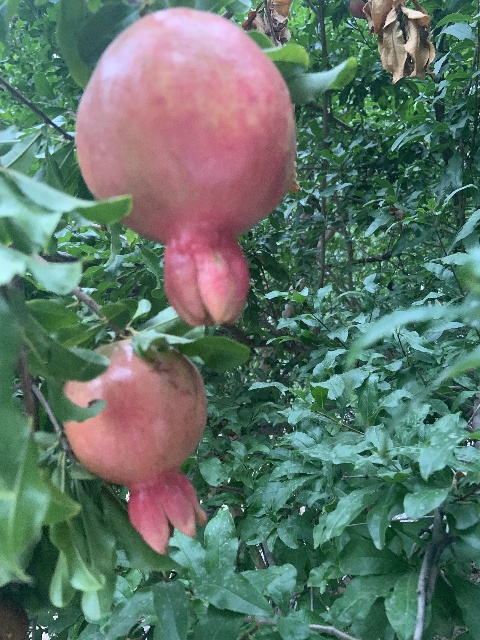ripe: (74, 6, 295, 325), (61, 339, 208, 554)
